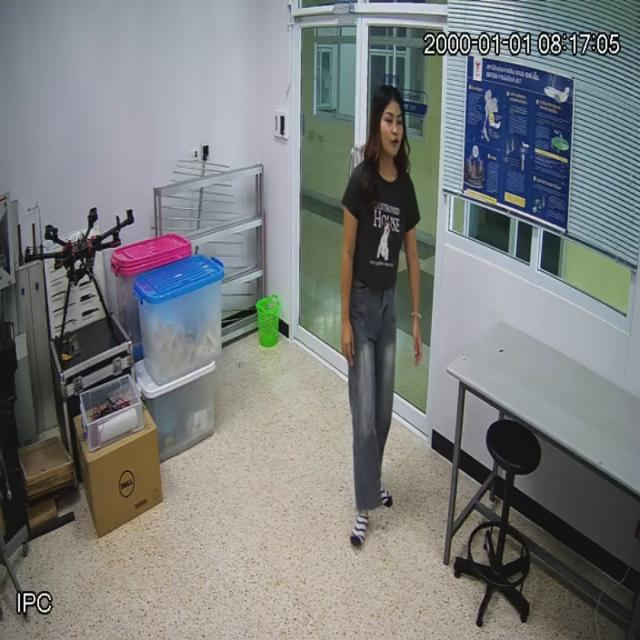normal: (339, 81, 429, 564)
